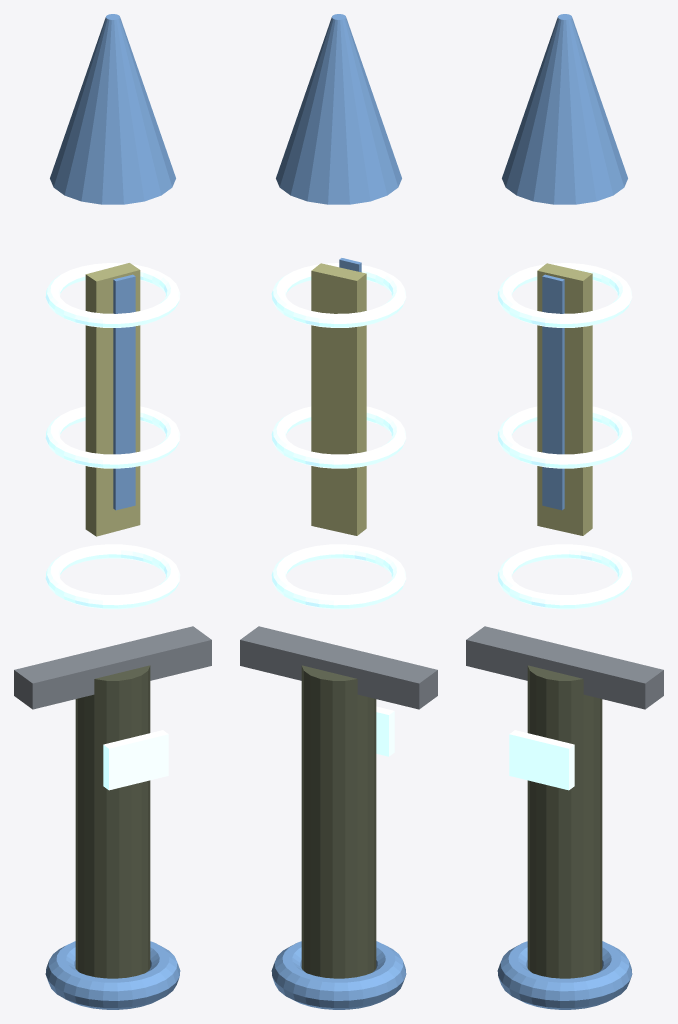
File: asset.glb
3 views of the same model, side by side, from view 1: azimuth 30°, elevation 25°; view 2: azimuth 150°, elevation 25°; view 3: azimuth 330°, elevation 25° (orthographic).
Visible parts, largest first — view 1: Grip, BladeTip, BladeCore, Guard, Pommel, BladeEdge, EnergyBand_1.18, EnergyBand_2.26, EnergyBand_1.72, IdentityPlate; view 2: Grip, BladeTip, BladeCore, Guard, Pommel, EnergyBand_1.18, EnergyBand_2.26, EnergyBand_1.72, IdentityPlate; view 3: Grip, BladeTip, BladeCore, Guard, Pommel, BladeEdge, EnergyBand_1.18, EnergyBand_2.26, EnergyBand_1.72, IdentityPlate.
Part boxes in pixels (bbox=[...]): Grip: bbox=[75, 665, 150, 978]; BladeTip: bbox=[50, 14, 175, 204]; BladeCore: bbox=[85, 263, 140, 536]; Guard: bbox=[14, 626, 211, 709]; Pommel: bbox=[45, 941, 180, 1009]; BladeEdge: bbox=[113, 274, 135, 510]; EnergyBand_1.18: bbox=[45, 544, 180, 609]; EnergyBand_2.26: bbox=[45, 263, 180, 327]; EnergyBand_1.72: bbox=[45, 406, 180, 468]; IdentityPlate: bbox=[103, 730, 168, 790]; Grip: bbox=[301, 665, 376, 978]; BladeTip: bbox=[276, 14, 401, 204]; BladeCore: bbox=[311, 263, 366, 535]; Guard: bbox=[240, 626, 437, 709]; Pommel: bbox=[271, 941, 406, 1009]; EnergyBand_1.18: bbox=[271, 544, 406, 609]; EnergyBand_2.26: bbox=[271, 263, 406, 327]; EnergyBand_1.72: bbox=[271, 406, 406, 468]; IdentityPlate: bbox=[376, 706, 394, 756]; Grip: bbox=[527, 665, 602, 978]; BladeTip: bbox=[502, 14, 627, 204]; BladeCore: bbox=[537, 263, 592, 535]; Guard: bbox=[466, 626, 663, 709]; Pommel: bbox=[497, 941, 632, 1009]; BladeEdge: bbox=[542, 274, 564, 510]; EnergyBand_1.18: bbox=[497, 544, 632, 609]; EnergyBand_2.26: bbox=[497, 263, 632, 327]; EnergyBand_1.72: bbox=[497, 406, 632, 468]; IdentityPlate: bbox=[509, 730, 574, 790].
Size of the model in its own units: 0.72 by 3.72 by 0.47.
